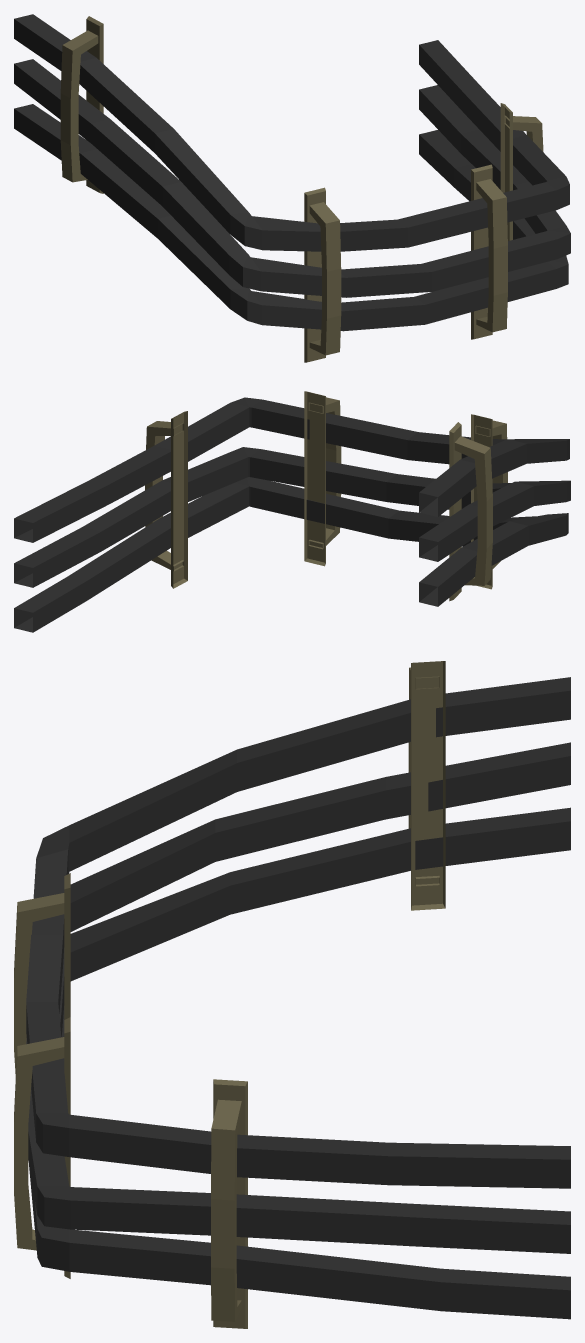
The model's file is SW_ENV_Wires3_StationTunnelWallEnd_03.fbx.
3 views of the same model, one above another, from view 1: azimuth 30°, elevation 25°; view 2: azimuth 150°, elevation 25°; view 3: azimuth 270°, elevation 25° (orthographic). The views are drawn at different scales.
Parts seen in each view (by area): view 1: SW_ENV_Wires3_StationTunnelWallEnd_03; view 2: SW_ENV_Wires3_StationTunnelWallEnd_03; view 3: SW_ENV_Wires3_StationTunnelWallEnd_03.
Boxes of the visible parts, x1,y1,x2,y2 form: SW_ENV_Wires3_StationTunnelWallEnd_03: (14, 14, 570, 362); SW_ENV_Wires3_StationTunnelWallEnd_03: (14, 391, 570, 632); SW_ENV_Wires3_StationTunnelWallEnd_03: (14, 661, 570, 1328).
Size of the model in its own units: 89.2 by 58.39 by 69.56.
